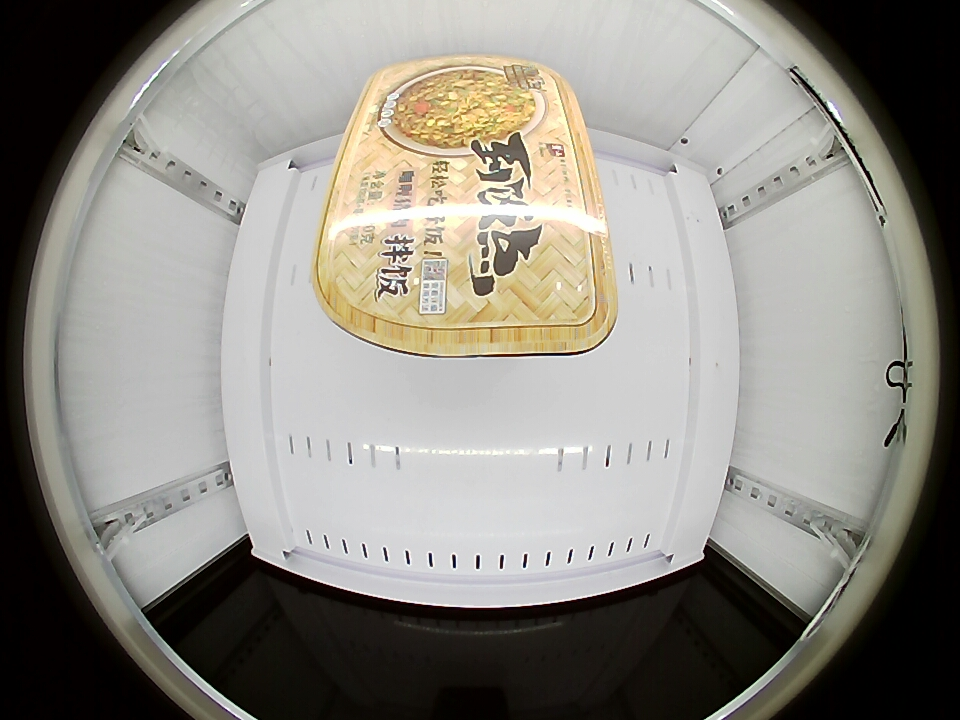daofandian3: (314, 57, 618, 360)
